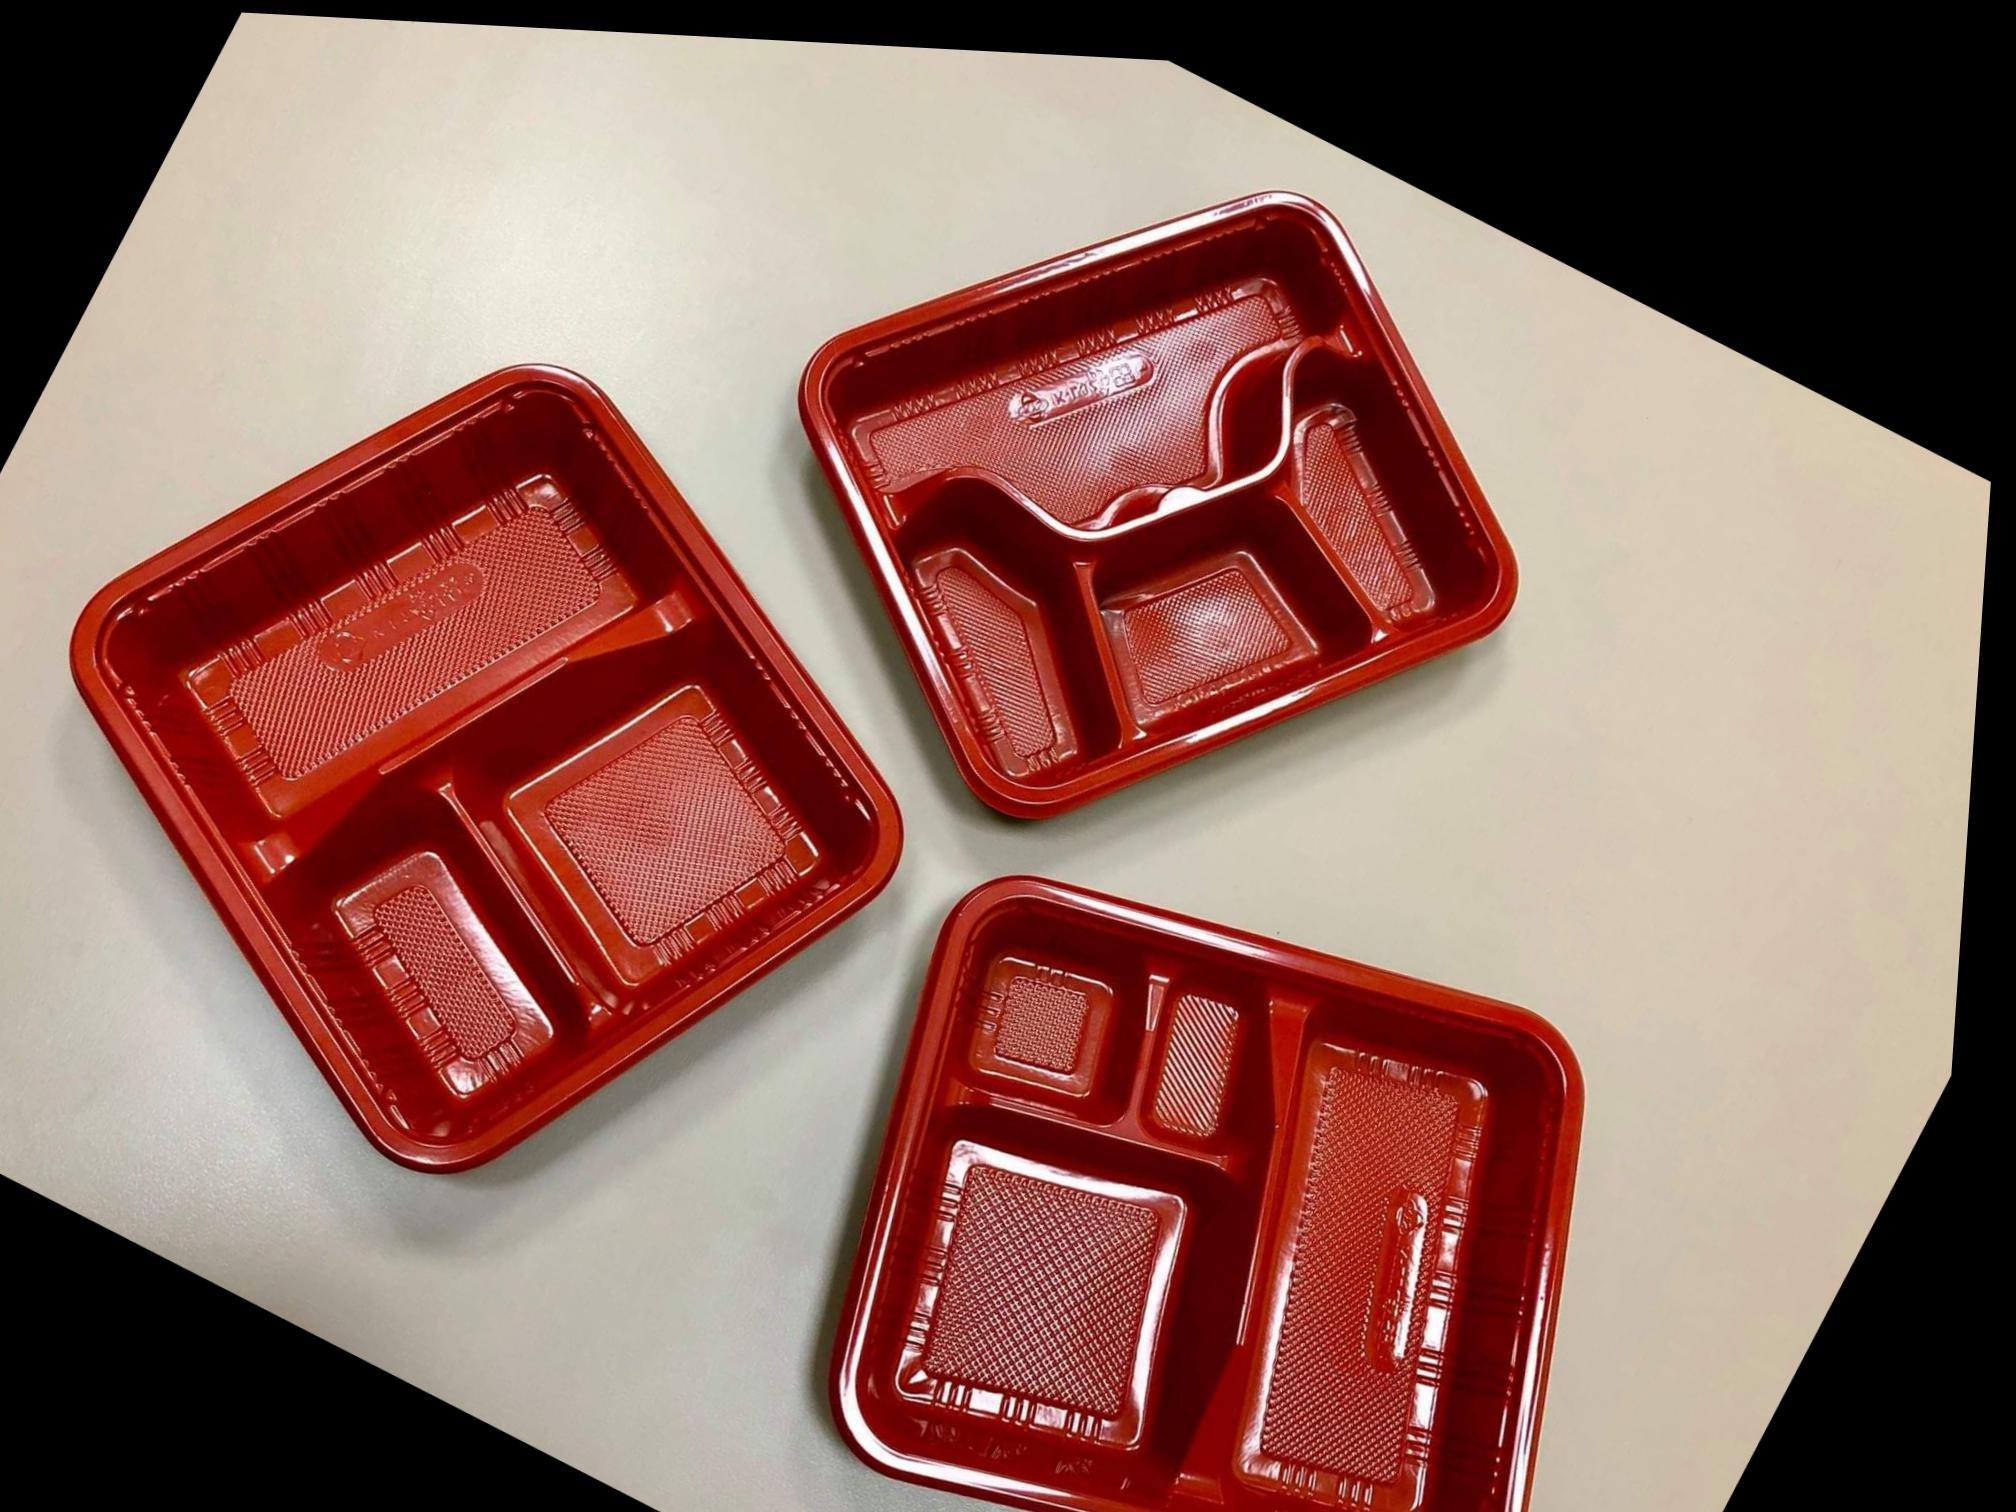plastic: (41, 334, 898, 1171), (833, 877, 1581, 1510), (802, 191, 1514, 815)
